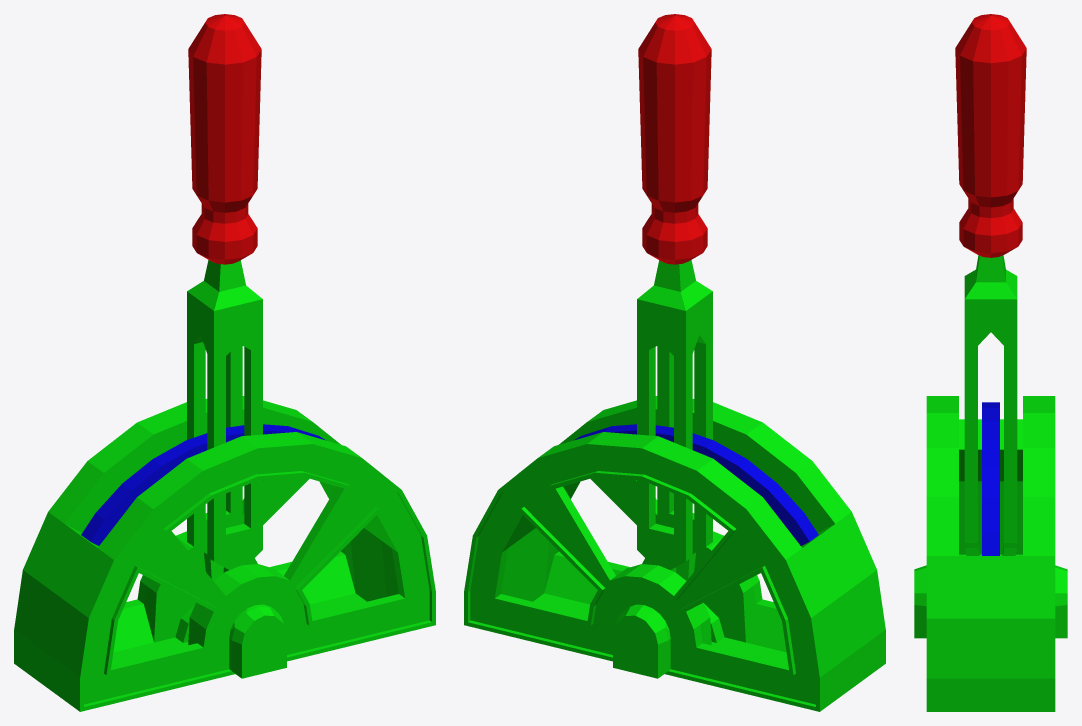
Rendered from Lever_2.0.fbx.
3 renders of one model, left to right at view 1: azimuth 30°, elevation 25°; view 2: azimuth 150°, elevation 25°; view 3: azimuth 270°, elevation 25°, orthographic. The views are drawn at different scales.
Parts seen in each view (by area): view 1: mesh_lever_base, mesh_lever_handle; view 2: mesh_lever_base, mesh_lever_handle; view 3: mesh_lever_base, mesh_lever_handle.
Part boxes in pixels (x1=…): mesh_lever_base: x1=14, y1=396, x2=435, y2=711; mesh_lever_handle: x1=187, y1=14, x2=262, y2=580; mesh_lever_base: x1=464, y1=396, x2=885, y2=711; mesh_lever_handle: x1=637, y1=14, x2=712, y2=580; mesh_lever_base: x1=914, y1=396, x2=1067, y2=711; mesh_lever_handle: x1=955, y1=14, x2=1026, y2=555.
Size of the model in its own units: 507 by 858 by 195.
